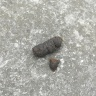Dog: (31, 36, 63, 72)
